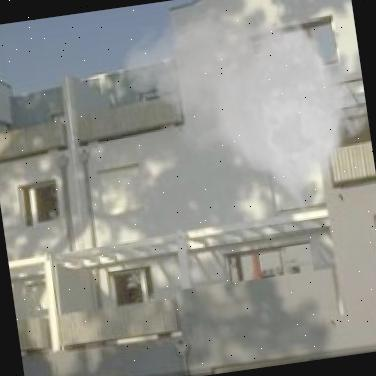smoke: (161, 0, 347, 237)
